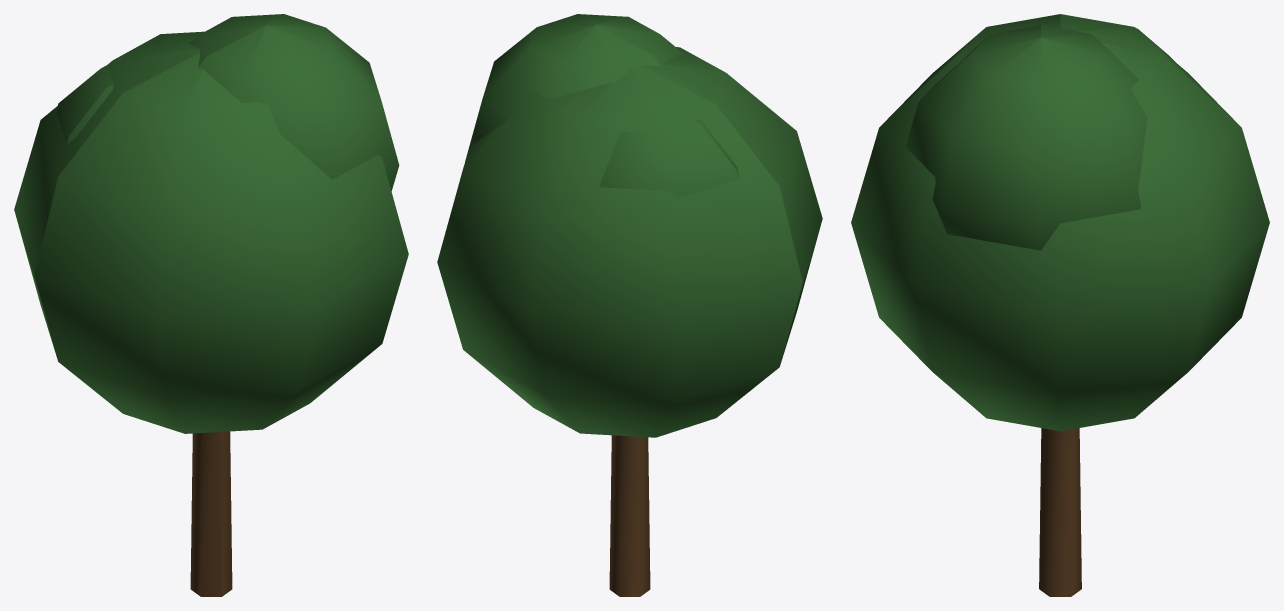
File: tree-broadleaf.glb
The picture shows the model from 3 angles, left to right: view 1: azimuth 30°, elevation 25°; view 2: azimuth 150°, elevation 25°; view 3: azimuth 270°, elevation 25°; orthographic projection. The views are drawn at different scales.
Size of the model in its own units: 4.3 by 6.5 by 4.3.
